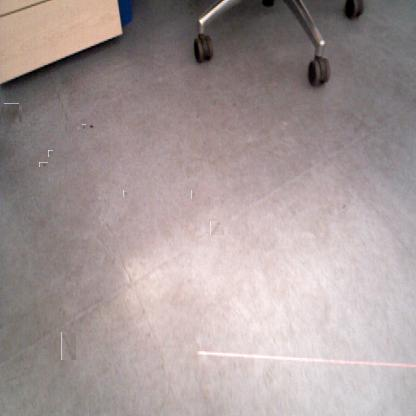mark: (61, 332, 76, 360), (2, 105, 21, 123), (210, 222, 224, 235), (191, 189, 196, 199), (40, 161, 47, 168), (341, 203, 347, 211), (123, 189, 128, 197), (88, 123, 94, 129), (48, 150, 53, 157), (82, 124, 86, 129)
